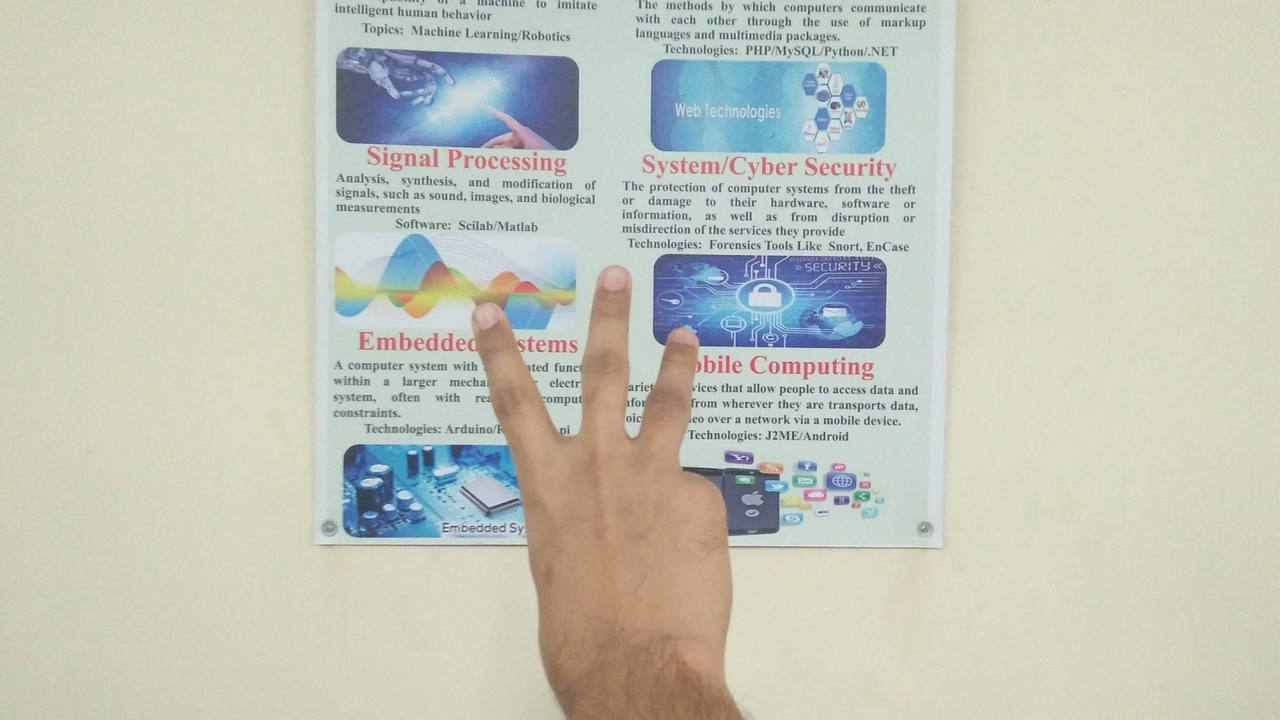fingertip: (460, 290, 514, 346), (584, 256, 634, 302), (658, 318, 704, 360)
